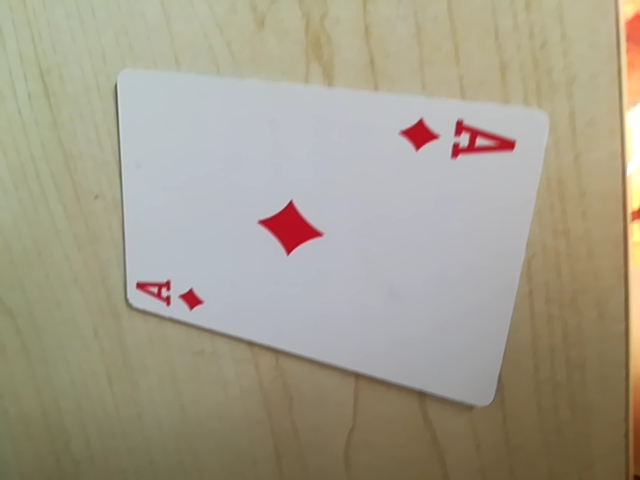fk a: (398, 111, 520, 169), (131, 269, 212, 316)
